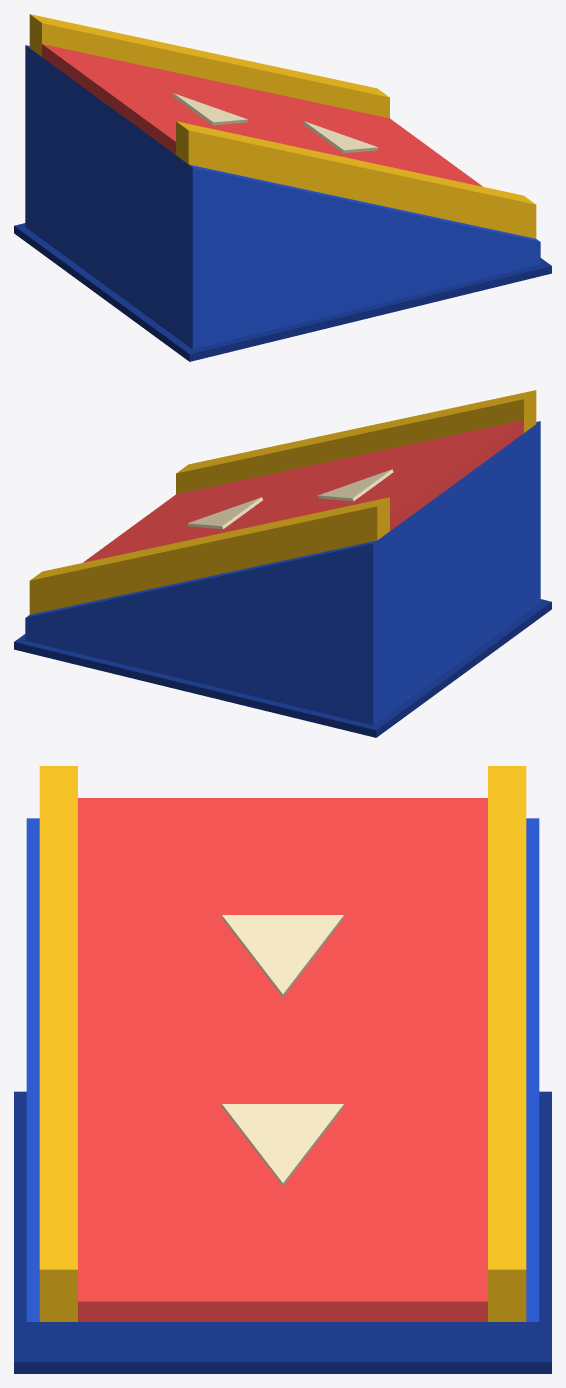
Rendered from ramp.glb.
The picture shows the model from 3 angles, top to bottom: view 1: azimuth 30°, elevation 25°; view 2: azimuth 150°, elevation 25°; view 3: azimuth 270°, elevation 25°; orthographic projection. The views are drawn at different scales.
Visible parts, largest first — view 1: RampBody, RampSurface; view 2: RampBody, RampSurface; view 3: RampSurface, RampBody.
Part boxes in pixels (x1=…): RampBody: x1=14, y1=14, x2=551, y2=361; RampSurface: x1=42, y1=44, x2=482, y2=186; RampBody: x1=14, y1=390, x2=551, y2=737; RampSurface: x1=83, y1=420, x2=523, y2=562; RampSurface: x1=78, y1=798, x2=487, y2=1321; RampBody: x1=14, y1=766, x2=551, y2=1373.
Bounding box in the file's own units: 1 × 0.59 × 0.84.
Materials: 1 (1 with a texture image).
